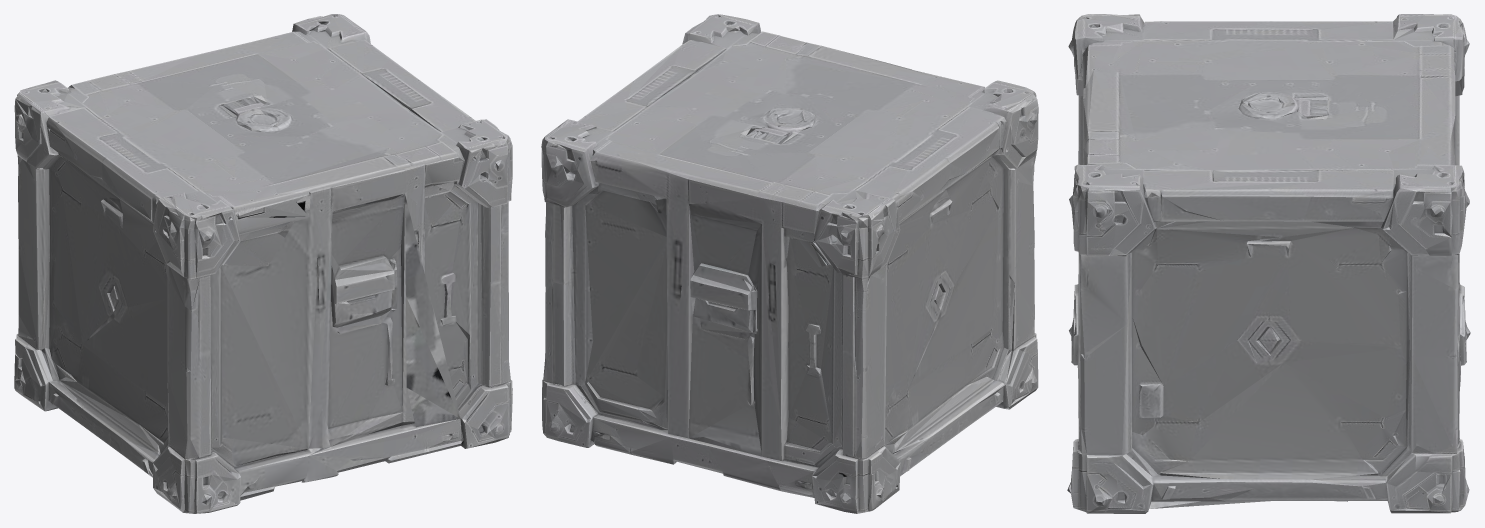
File: cargo_crate_large.glb
3 renders of one model, left to right at view 1: azimuth 30°, elevation 25°; view 2: azimuth 150°, elevation 25°; view 3: azimuth 270°, elevation 25°, orthographic. The views are drawn at different scales.
Parts seen in each view (by area): view 1: output_unwrapped; view 2: output_unwrapped; view 3: output_unwrapped.
Boxes of the visible parts, bbox=[...] form: output_unwrapped: bbox=[14, 14, 512, 513]; output_unwrapped: bbox=[541, 14, 1038, 513]; output_unwrapped: bbox=[1067, 14, 1470, 513].
Size of the model in its own units: 1.9 by 1.59 by 1.78.
Materials: 1 (1 with a texture image).
